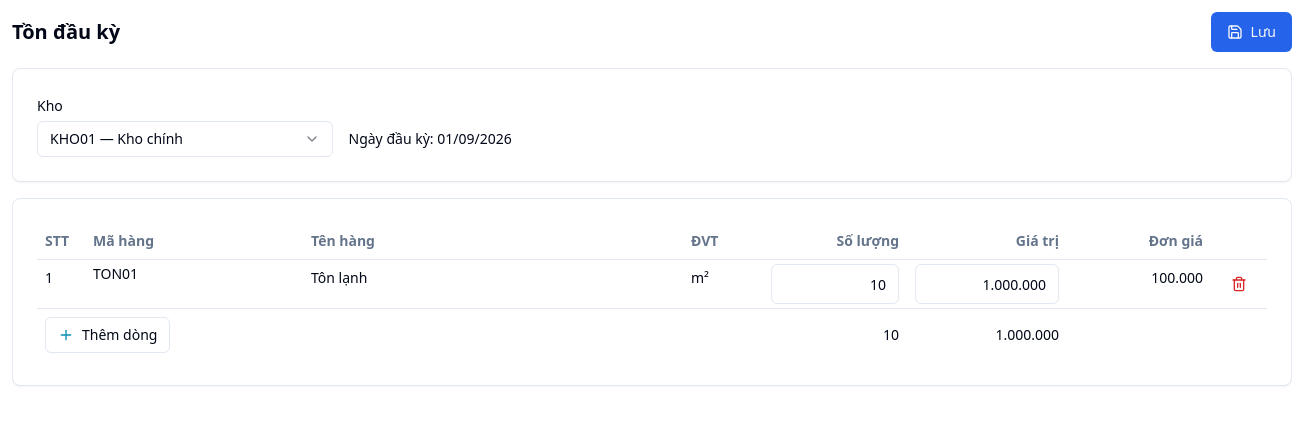
OpeningStockPage › a failed load of the new warehouse shows the error and keeps Lưu disabled
Click the dropdown labelled "KHO".
click(185, 139)  # box [37, 121, 332, 157]
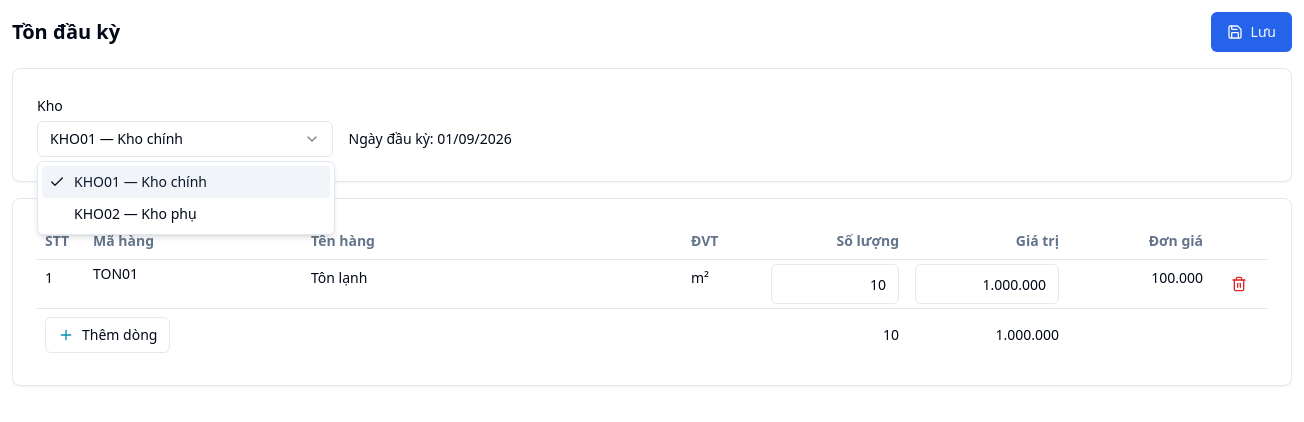
Click the option "KHO02 — Kho phụ".
click(135, 214)  # box [74, 204, 197, 223]
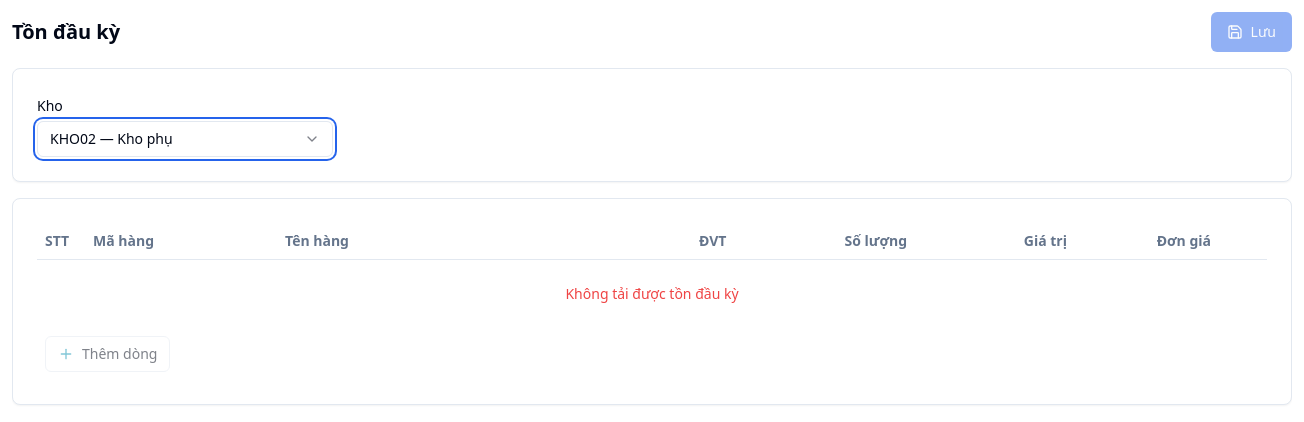
Expected: the field showing "TON01" is not shown
Expected: the text "Không tải được tồn đầu kỳ" is shown, [37, 260, 1267, 328]
Expected: the button "Lưu" is disabled, [1211, 12, 1292, 52]
